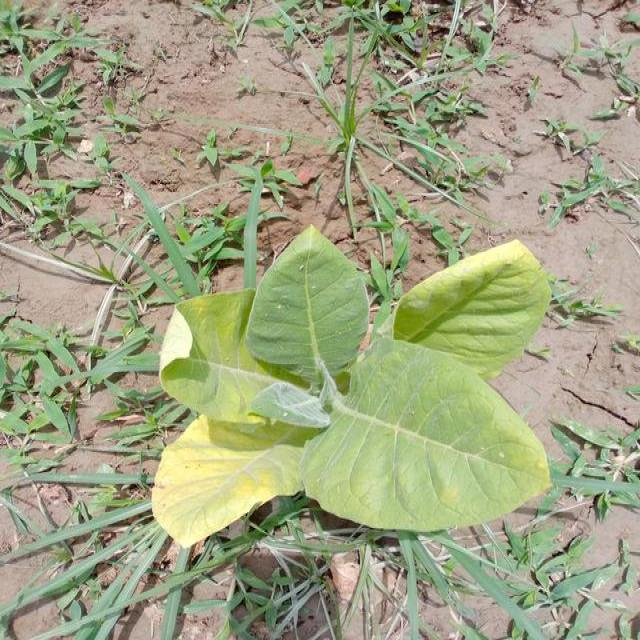crop: (160, 226, 556, 547)
